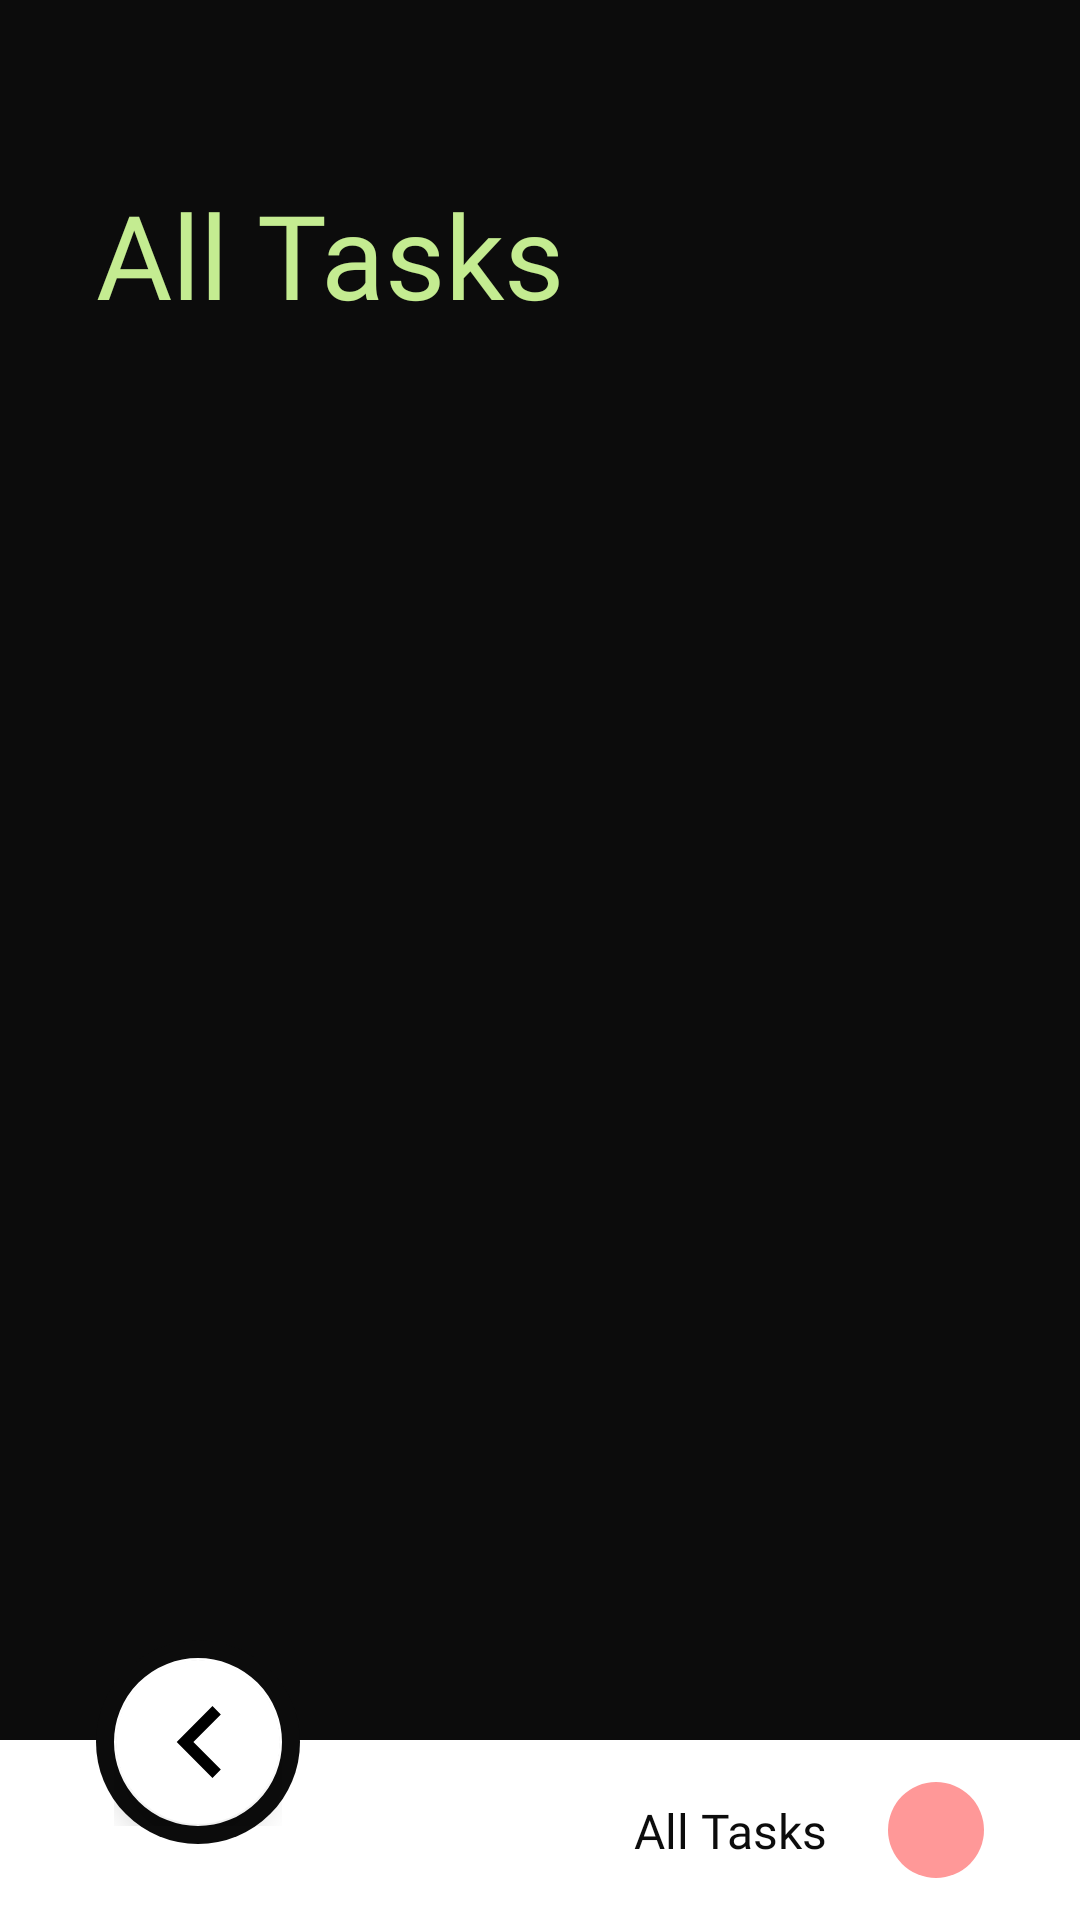

Icon bounding boxes for this 1080w x 1920h phone screenshot, format [left=x1, top=y1, right=x2, bottom=y2]:
arrow: [left=114, top=1658, right=282, bottom=1826]
